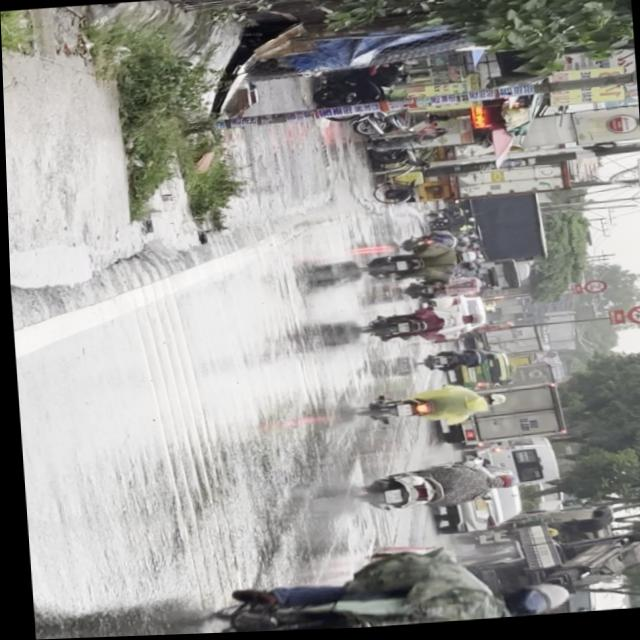helmet: (495, 586, 564, 621), (487, 477, 516, 494)
licenseplate: (164, 543, 568, 636), (355, 463, 518, 518)
nohelmet: (381, 492, 398, 506)
